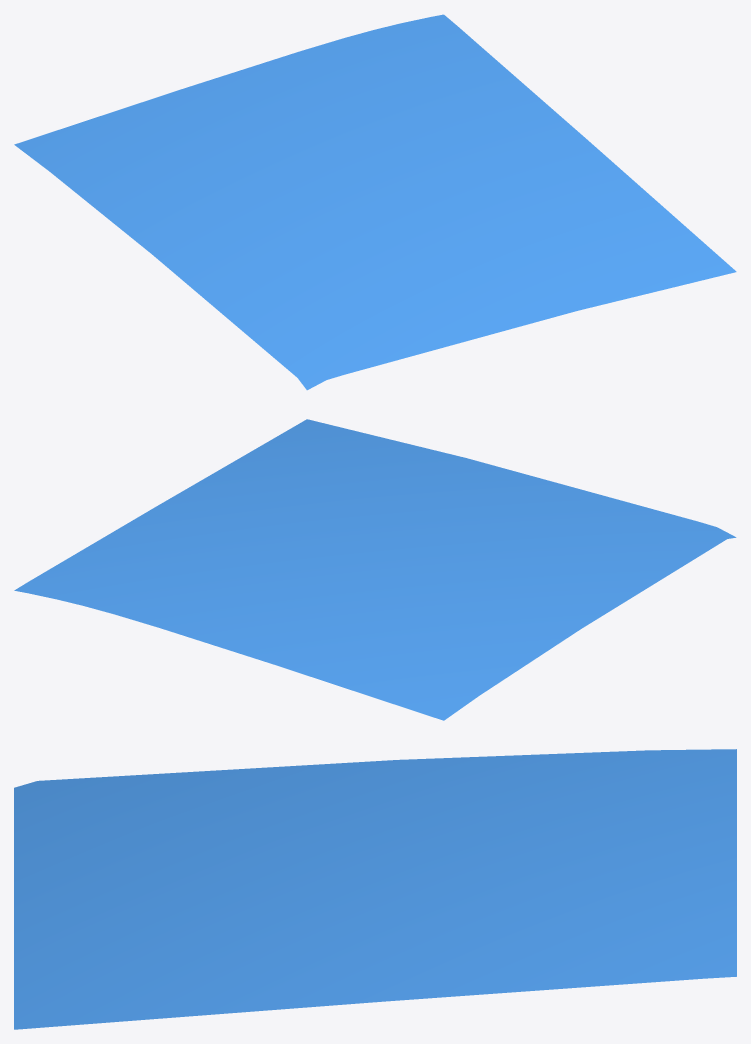
Rendered from kd_stage_136599_14_1_bounded.glb.
3 renders of one model, top to bottom at view 1: azimuth 30°, elevation 25°; view 2: azimuth 150°, elevation 25°; view 3: azimuth 270°, elevation 25°, orthographic. The views are drawn at different scales.
Visible parts, largest first — view 1: kd_stage_136599_14_1_bounded; view 2: kd_stage_136599_14_1_bounded; view 3: kd_stage_136599_14_1_bounded.
Part boxes in pixels (x1,y1,x2,y2): kd_stage_136599_14_1_bounded: (14, 14, 736, 390); kd_stage_136599_14_1_bounded: (14, 419, 736, 720); kd_stage_136599_14_1_bounded: (14, 749, 736, 1029).
Bounding box in the file's own units: 2059 × 267 × 2431.
1 material, 1 textured.
